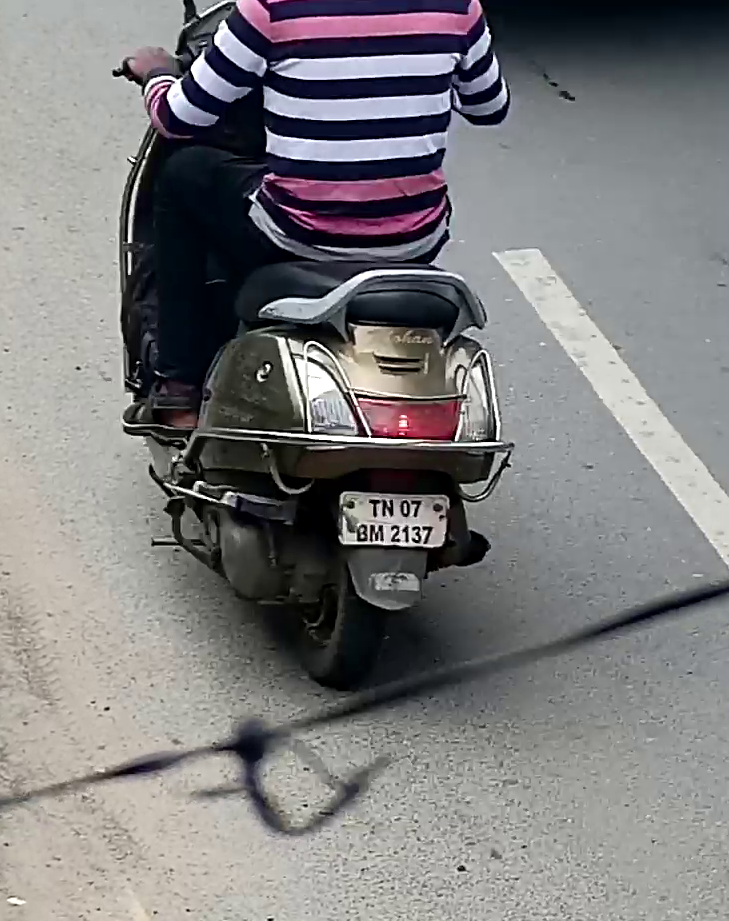0: (400, 500, 410, 518)
1: (401, 525, 410, 543)
2: (390, 525, 401, 543)
3: (411, 526, 421, 543)
7: (421, 525, 434, 544), (410, 499, 422, 518)
B: (356, 523, 368, 542)
M: (368, 523, 384, 542)
N: (382, 498, 394, 517)
P16: (334, 489, 451, 551)
T: (368, 499, 382, 517)
